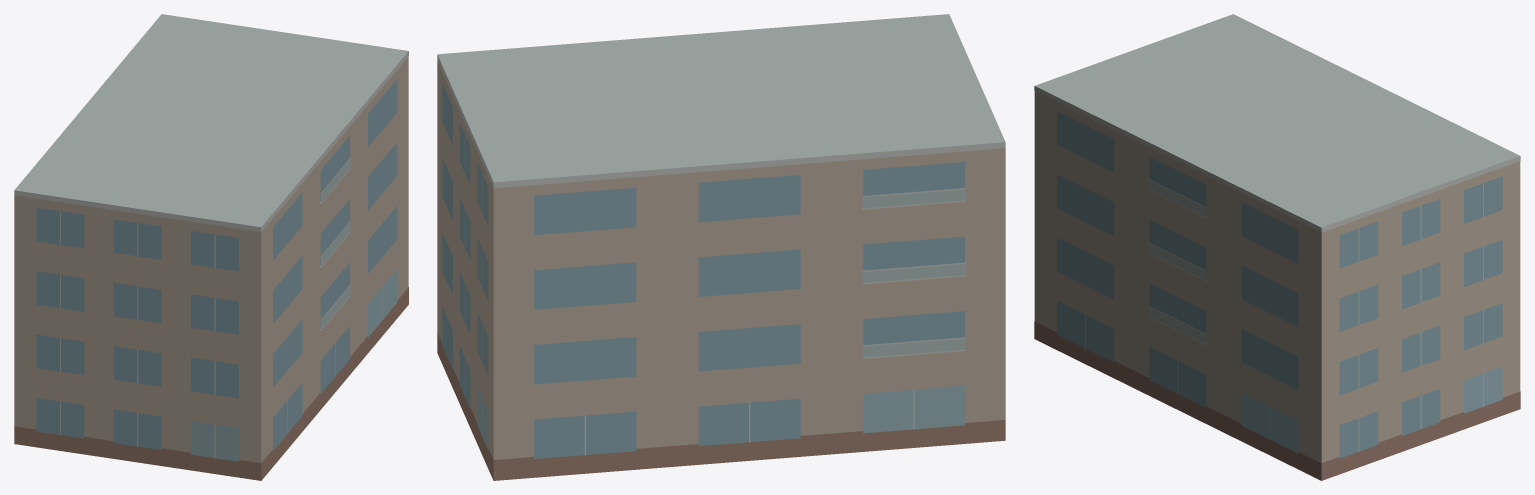
The model's file is residential-aa421f14-71fe-47b7-a00a-80ee71cba178.glb.
The picture shows the model from 3 angles, left to right: view 1: azimuth 30°, elevation 25°; view 2: azimuth 150°, elevation 25°; view 3: azimuth 270°, elevation 25°; orthographic projection. The views are drawn at different scales.
Parts seen in each view (by area): view 1: residential-aa421f14-71fe-47b7-a00a-80ee71cba178.tmp; view 2: residential-aa421f14-71fe-47b7-a00a-80ee71cba178.tmp; view 3: residential-aa421f14-71fe-47b7-a00a-80ee71cba178.tmp.
Boxes of the visible parts, <box> form: residential-aa421f14-71fe-47b7-a00a-80ee71cba178.tmp: <box>14,14,408,480</box>; residential-aa421f14-71fe-47b7-a00a-80ee71cba178.tmp: <box>437,14,1005,480</box>; residential-aa421f14-71fe-47b7-a00a-80ee71cba178.tmp: <box>1034,14,1520,480</box>.
Bounding box in the file's own units: 22.09 × 12.2 × 21.23.
